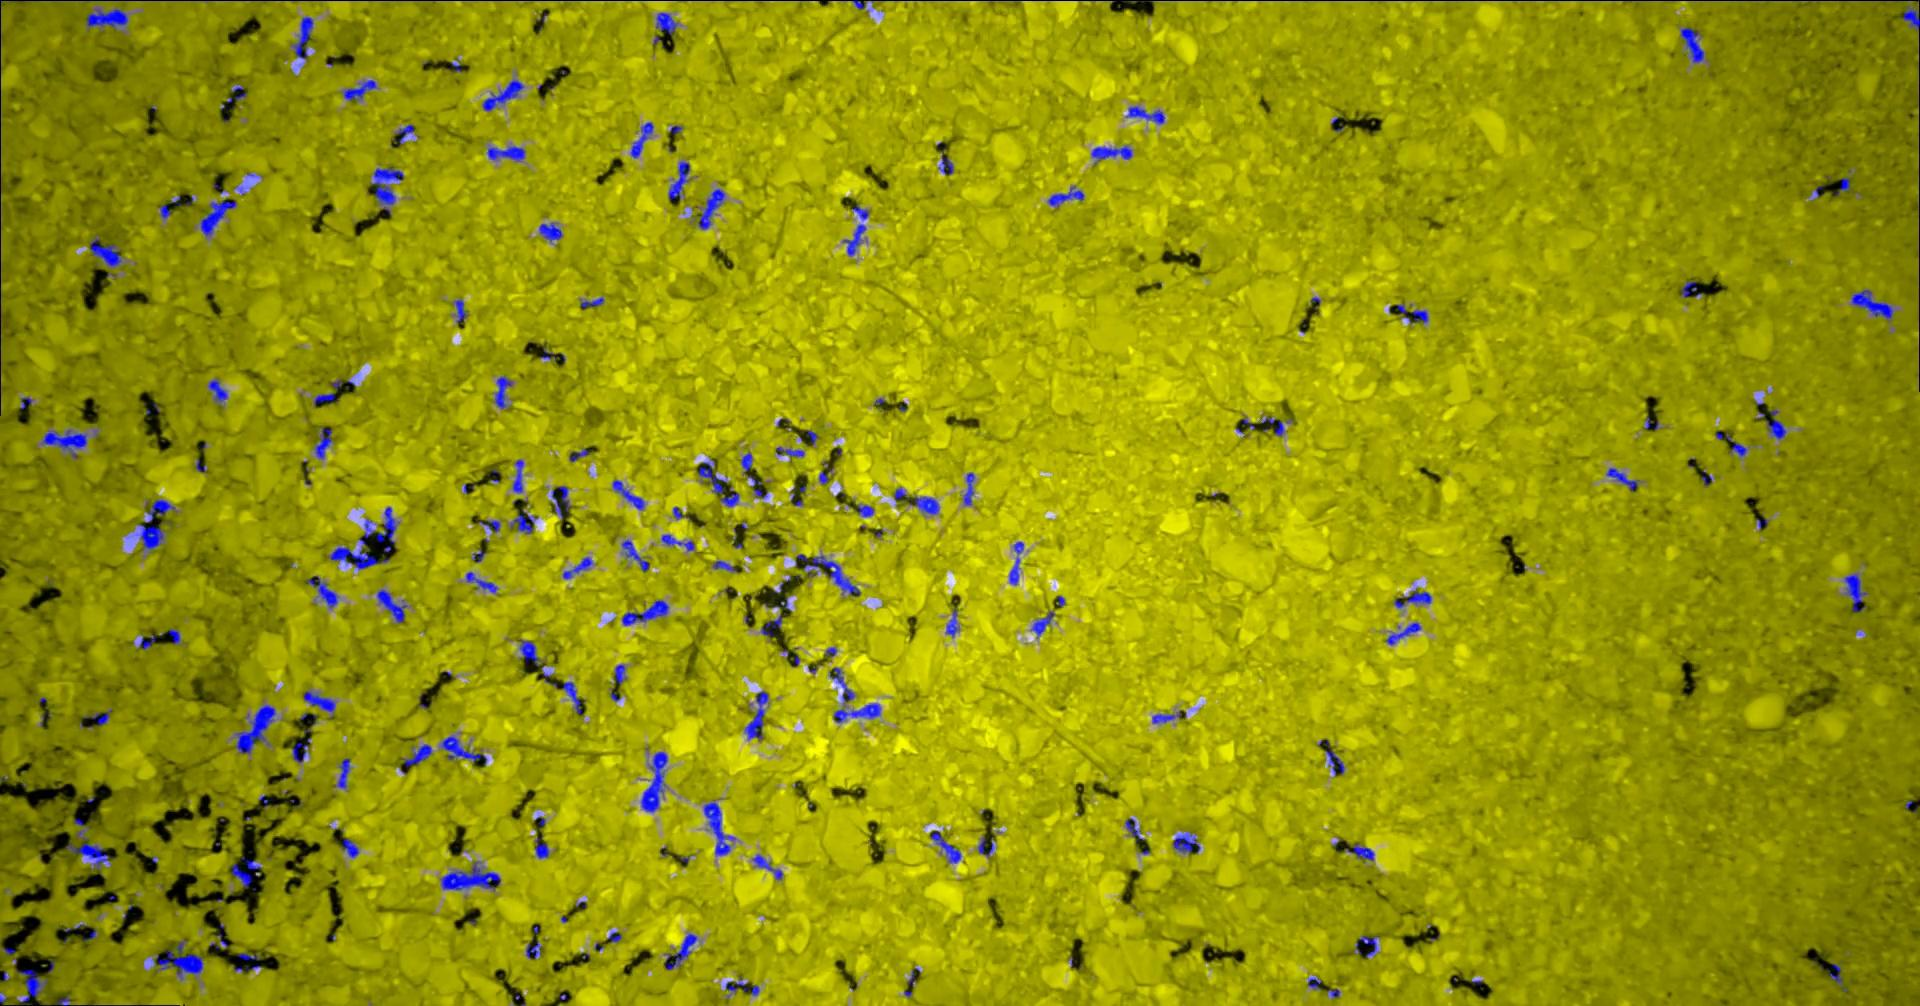ant: (328, 506, 395, 569), (829, 667, 880, 721), (796, 553, 860, 596), (235, 704, 276, 753), (152, 939, 202, 979), (698, 459, 738, 506), (66, 829, 113, 869), (439, 861, 500, 890), (138, 499, 174, 549), (703, 801, 734, 855), (640, 751, 667, 810), (373, 166, 403, 215), (439, 735, 486, 765), (41, 429, 86, 459), (201, 199, 236, 236), (483, 79, 523, 111), (893, 486, 938, 514), (1851, 290, 1893, 319), (744, 691, 768, 741), (621, 600, 668, 625), (17, 968, 47, 1005), (665, 934, 696, 969), (698, 188, 724, 229), (305, 575, 337, 607), (376, 589, 406, 622), (89, 235, 121, 265), (612, 479, 644, 509), (930, 831, 960, 862), (1317, 739, 1343, 775), (231, 856, 260, 887), (621, 539, 649, 570), (85, 8, 127, 28), (668, 161, 690, 199), (1844, 573, 1865, 611), (1680, 27, 1703, 62), (630, 122, 653, 158), (293, 17, 312, 58), (752, 854, 782, 879), (342, 79, 376, 100), (1385, 622, 1420, 644), (842, 224, 865, 255), (1606, 467, 1638, 490), (1048, 185, 1083, 206), (1125, 105, 1164, 123), (563, 681, 584, 713), (302, 690, 334, 711), (1393, 589, 1431, 607), (725, 976, 759, 995), (465, 572, 497, 592), (510, 509, 537, 533), (1030, 610, 1054, 636), (1396, 304, 1429, 323), (551, 485, 570, 518), (1091, 145, 1131, 160), (563, 556, 590, 578), (403, 744, 430, 766), (494, 375, 512, 408), (1172, 832, 1199, 854), (314, 427, 331, 459), (488, 145, 524, 160), (1766, 409, 1785, 438), (1343, 843, 1373, 862), (662, 533, 695, 550), (1124, 817, 1144, 843), (519, 639, 538, 666), (1355, 935, 1378, 956), (334, 758, 350, 788), (210, 921, 227, 948), (759, 614, 781, 635), (655, 11, 676, 34), (207, 379, 227, 401), (747, 475, 767, 498), (83, 708, 110, 724), (1152, 709, 1185, 723), (235, 951, 259, 970), (538, 222, 561, 241), (1902, 5, 1919, 30), (292, 737, 309, 762), (1680, 279, 1703, 297), (1260, 417, 1283, 434), (512, 459, 523, 492), (1827, 963, 1843, 987), (963, 473, 974, 504), (396, 124, 414, 145), (312, 392, 338, 406), (945, 608, 957, 636), (342, 838, 358, 857), (977, 837, 993, 856), (226, 86, 246, 102), (1834, 177, 1849, 196), (938, 154, 952, 174), (775, 446, 803, 456), (535, 837, 549, 857), (455, 298, 466, 323), (712, 560, 737, 572), (569, 448, 590, 461), (524, 941, 541, 958), (818, 466, 833, 484), (477, 520, 499, 531), (1010, 558, 1018, 584), (580, 297, 603, 307), (740, 452, 752, 473), (138, 634, 154, 649), (852, 205, 869, 218), (1730, 442, 1746, 456), (613, 664, 625, 683), (168, 627, 180, 643), (856, 504, 872, 516), (159, 205, 171, 218), (1307, 977, 1321, 989)
